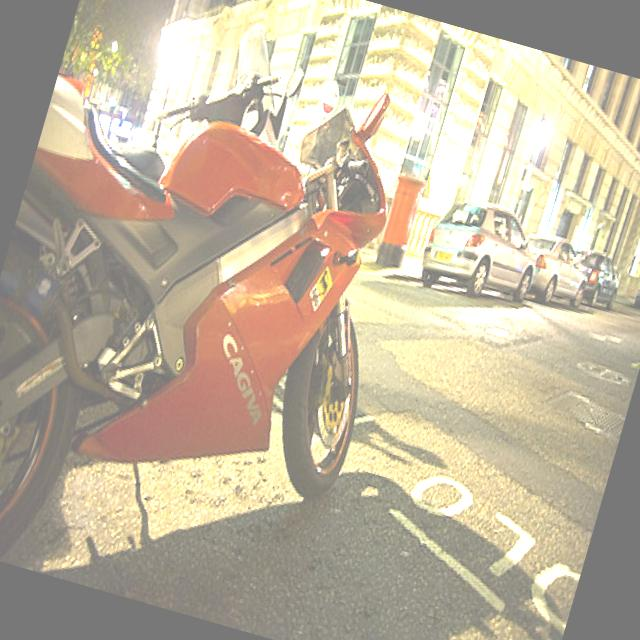Vehicle: (0, 4, 444, 638), (106, 0, 314, 211), (412, 191, 547, 318), (510, 228, 595, 314), (562, 245, 626, 315), (631, 274, 640, 314)
